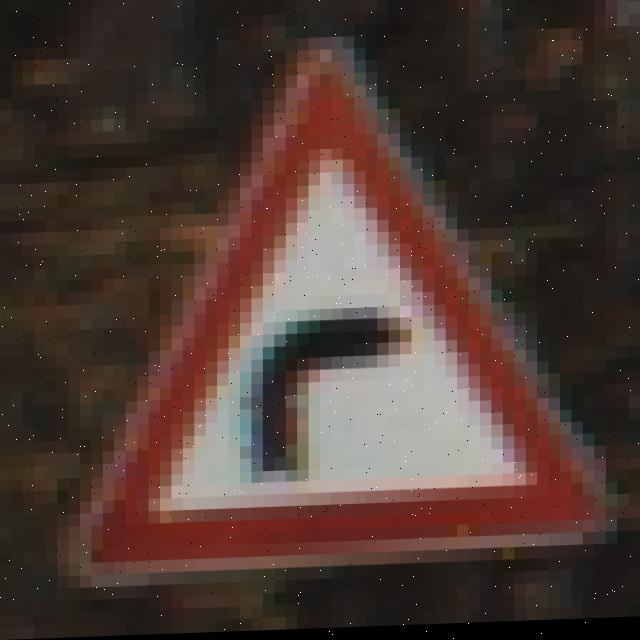right_turn: (110, 68, 570, 565)
